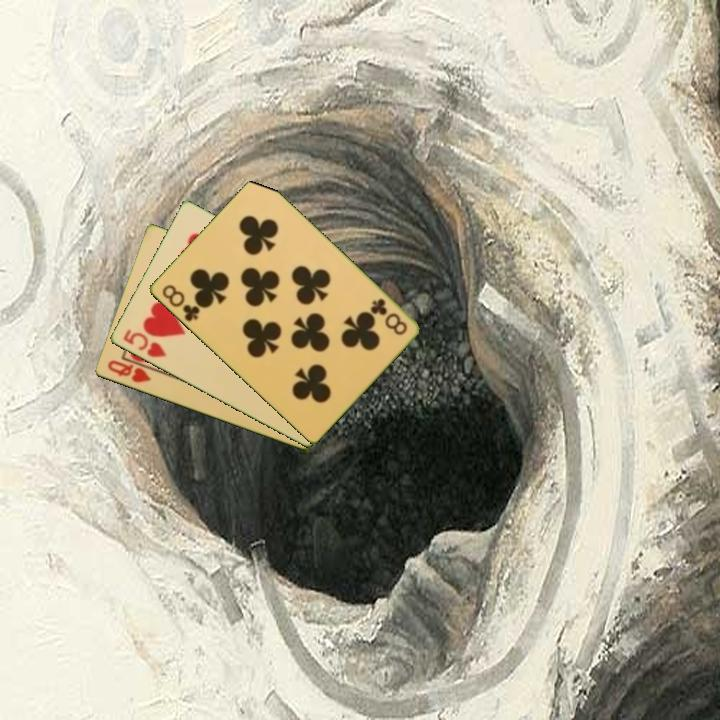5h: (119, 326, 169, 361)
8c: (158, 281, 203, 325), (366, 295, 410, 338)
Qh: (103, 357, 153, 386)
